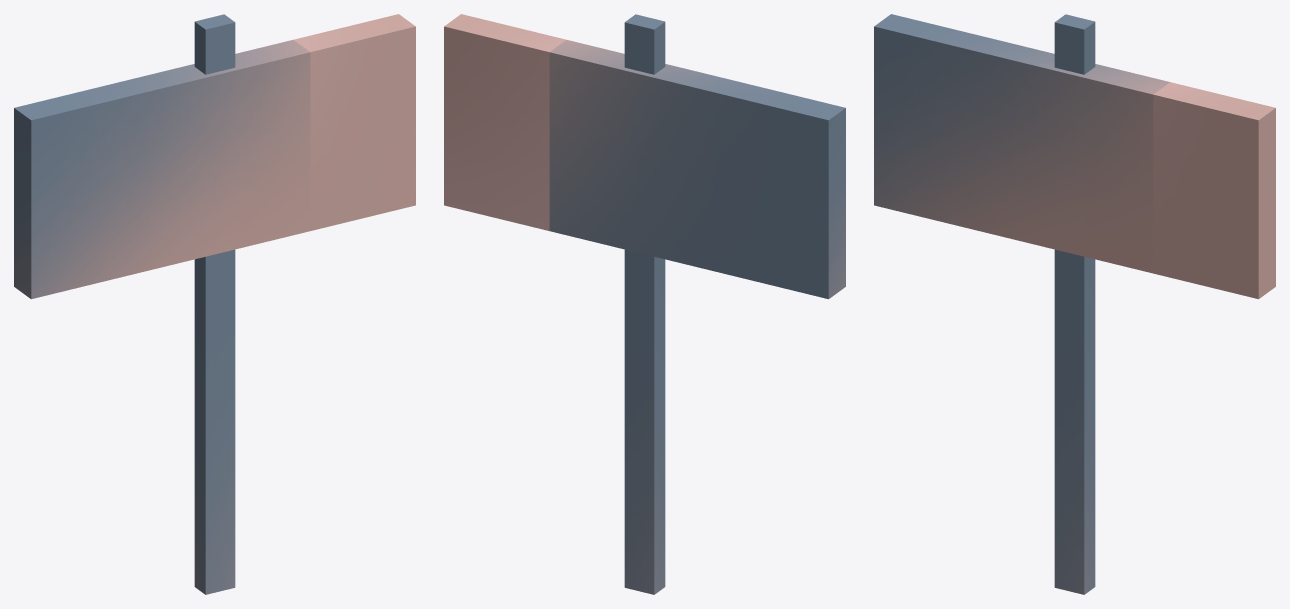
File: Asset_Prop_Signpost_02.fbx
3 renders of one model, left to right at view 1: azimuth 30°, elevation 25°; view 2: azimuth 150°, elevation 25°; view 3: azimuth 330°, elevation 25°, orthographic.
Visible parts, largest first — view 1: Asset_Prop_SignPost_02; view 2: Asset_Prop_SignPost_02; view 3: Asset_Prop_SignPost_02.
Boxes of the visible parts, x1=… form: Asset_Prop_SignPost_02: x1=14, y1=14, x2=415, y2=594; Asset_Prop_SignPost_02: x1=444, y1=14, x2=845, y2=594; Asset_Prop_SignPost_02: x1=874, y1=14, x2=1275, y2=594.
Size of the model in its own units: 30.29 by 42.54 by 2.33.
